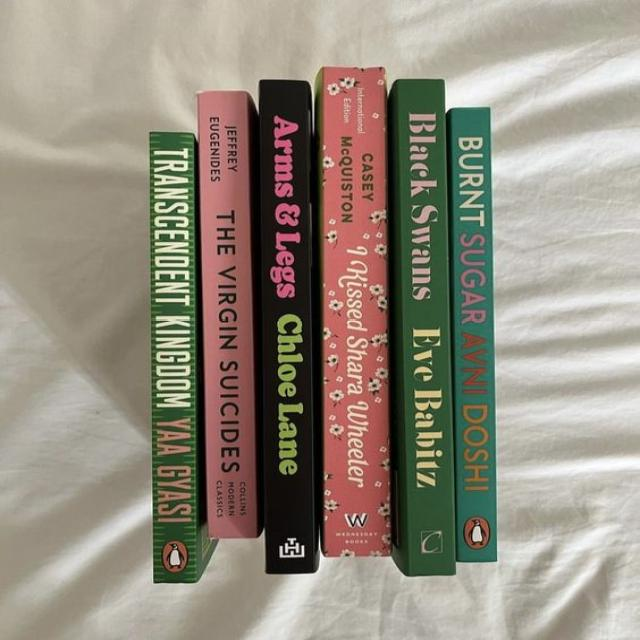book: (388, 79, 457, 575), (320, 67, 389, 556), (150, 133, 216, 583), (259, 80, 318, 574), (199, 91, 259, 538), (448, 107, 496, 561)
